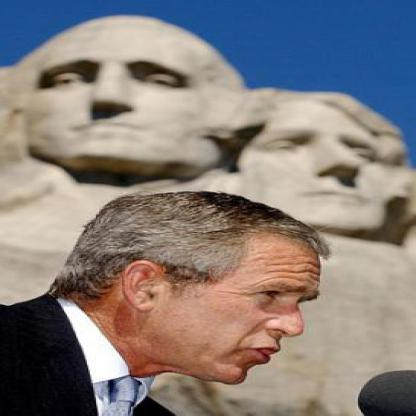face: (15, 19, 237, 182), (157, 219, 346, 389), (2, 1, 3, 2)
